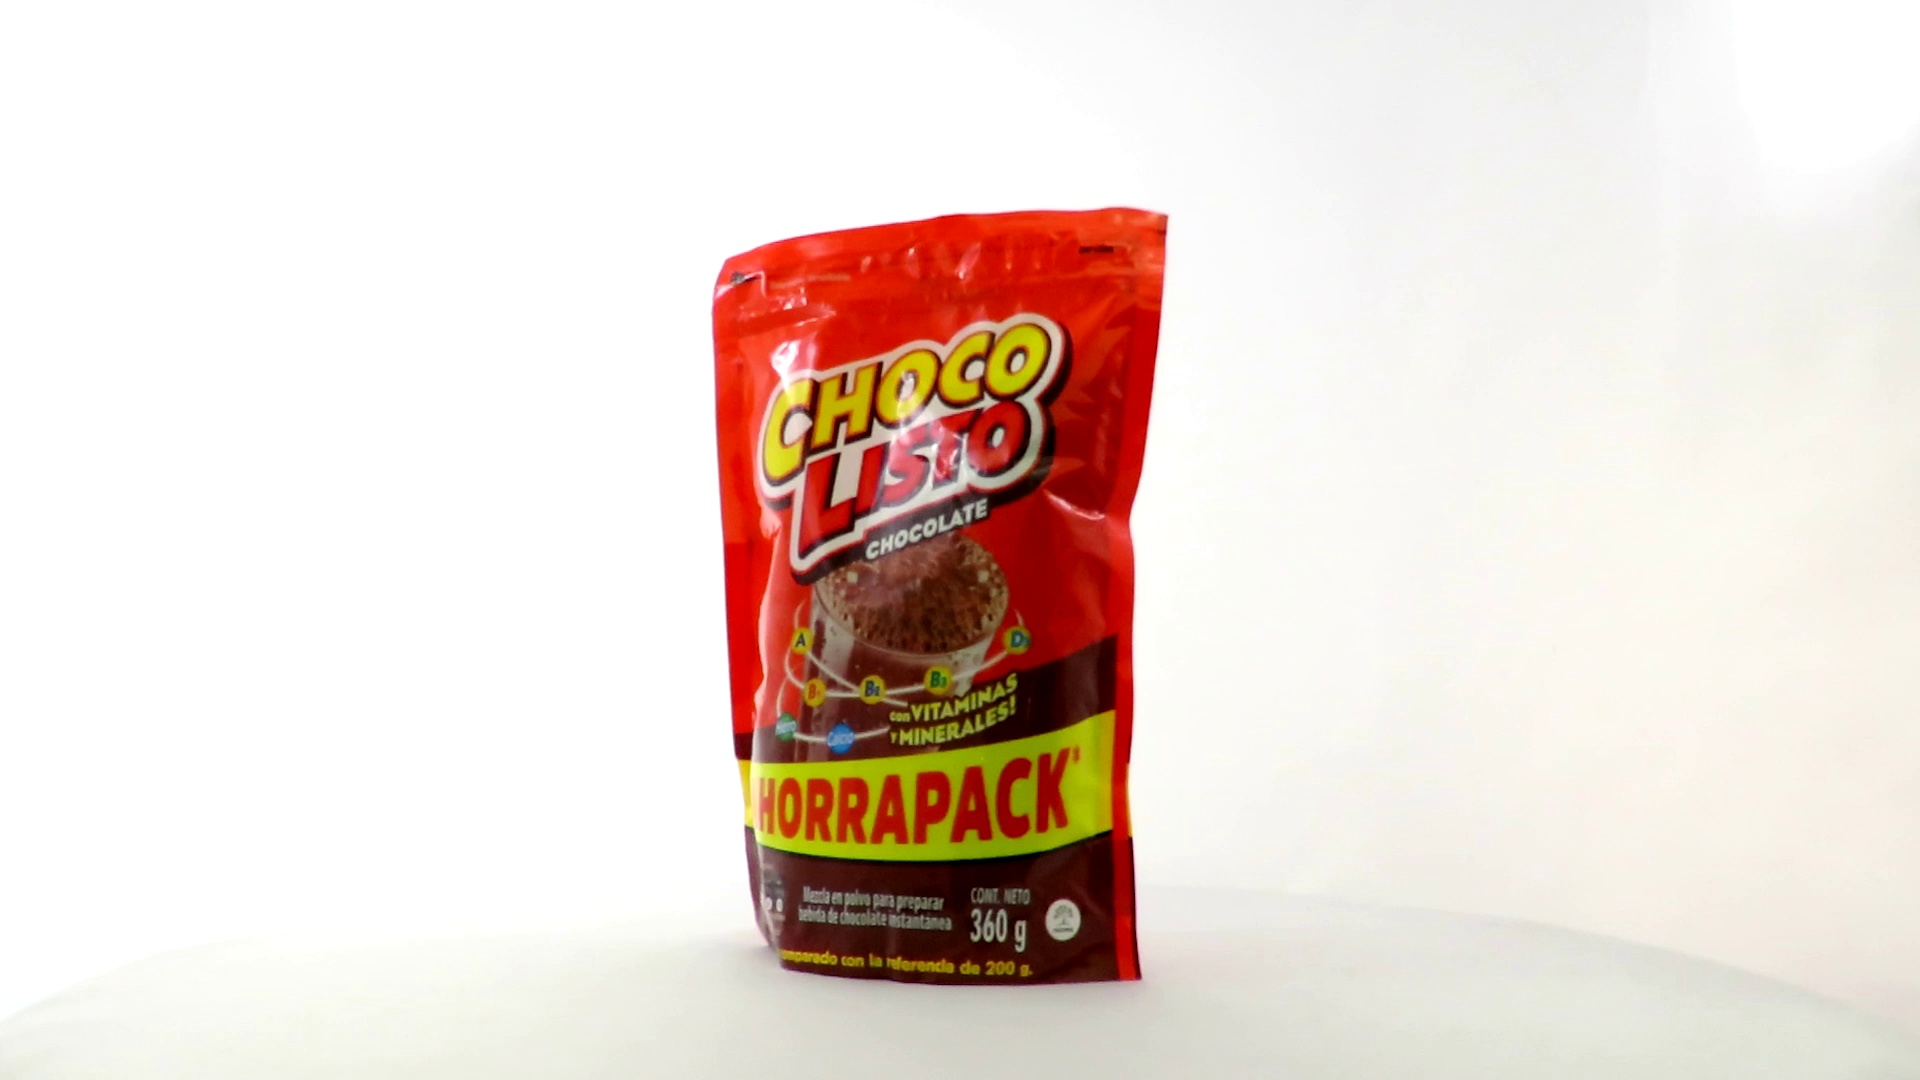COL0170103DYP36000: (705, 202, 1174, 992)
